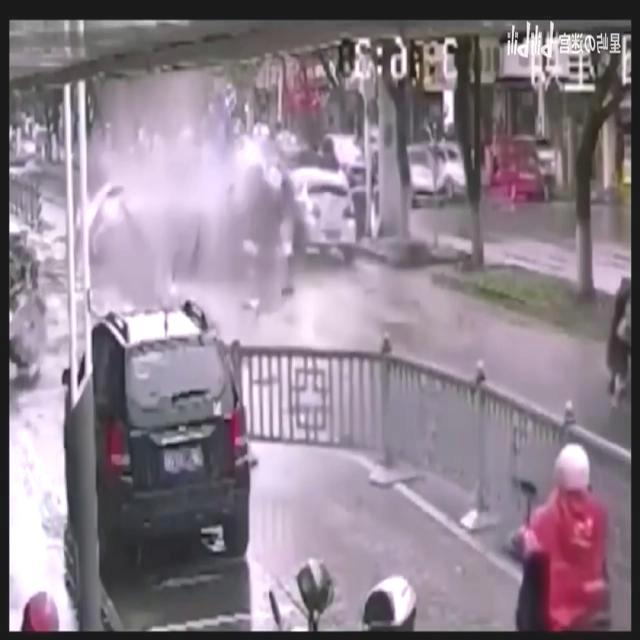accident: (70, 166, 366, 312)
